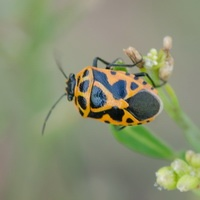insect: (42, 36, 173, 132)
